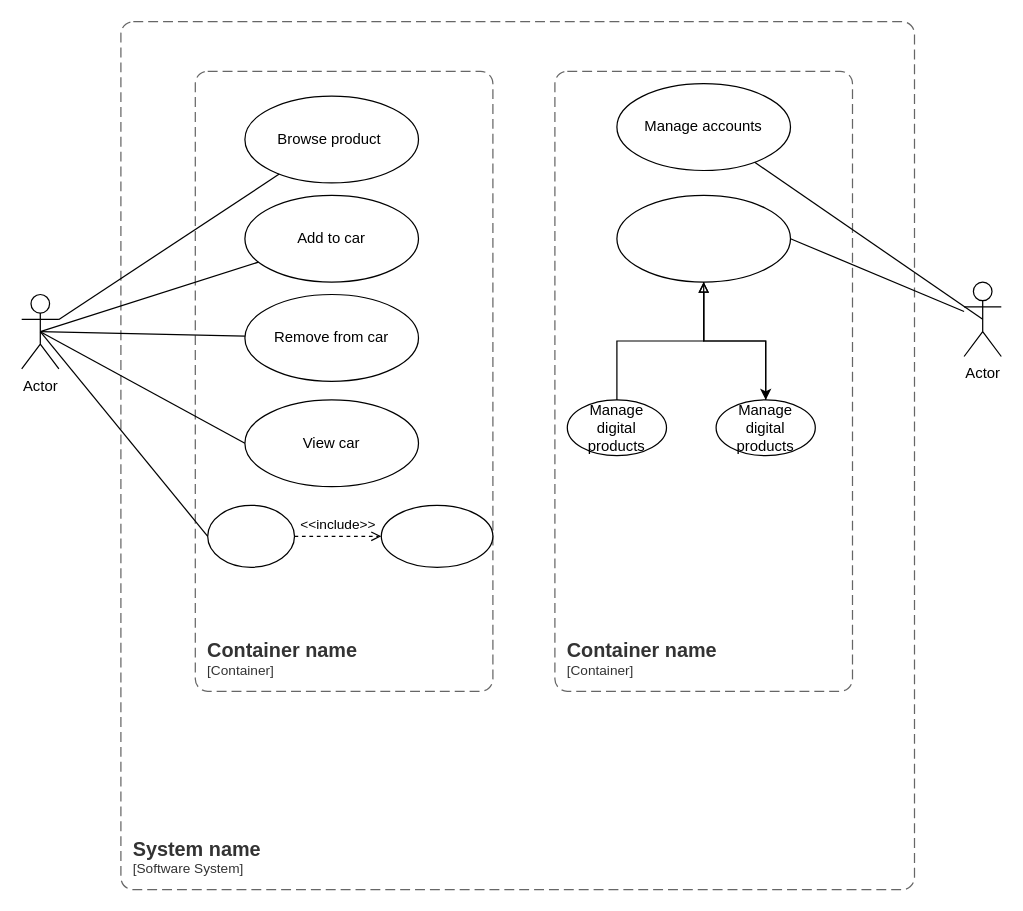
Image size: 1023x911. Some labels were removed from this diagram. The box of each missing label's shape, as (x1, y1, x2, y2) in pixels:
Apply discount code: (380, 504, 493, 567)
Make PAyment: (206, 504, 294, 567)
Manage products: (616, 194, 790, 282)
